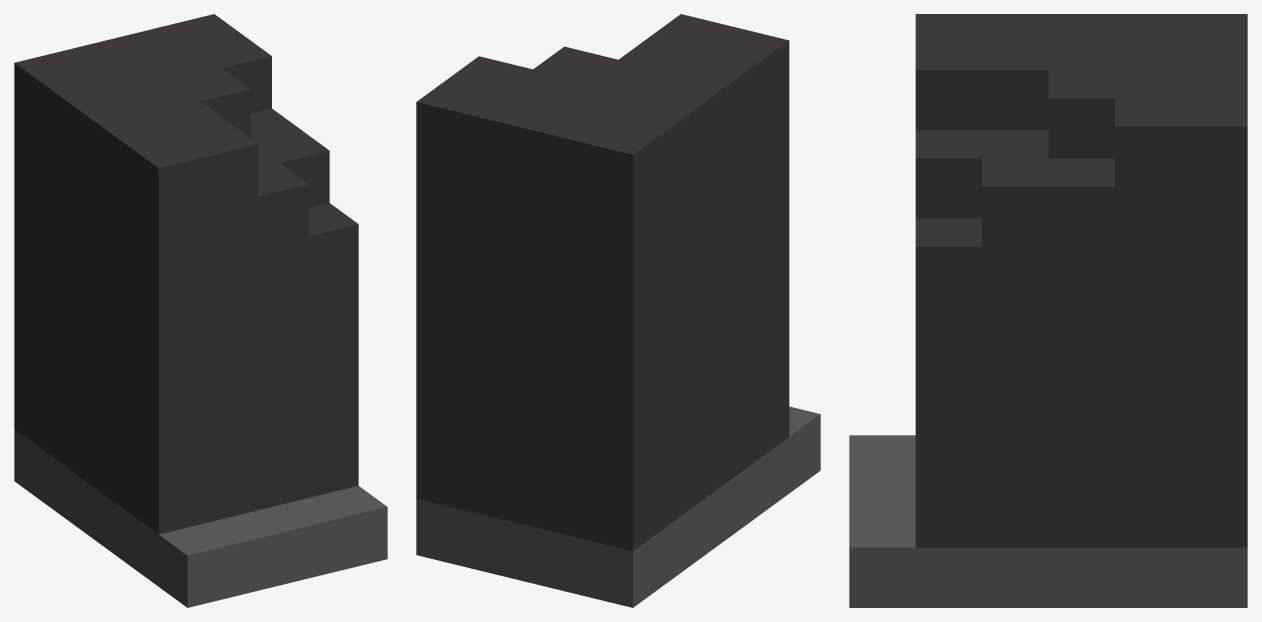
The model's file is gorilla__leg_r.glb.
3 renders of one model, left to right at view 1: azimuth 30°, elevation 25°; view 2: azimuth 150°, elevation 25°; view 3: azimuth 270°, elevation 25°, orthographic. The views are drawn at different scales.
Visible parts, largest first — view 1: gorilla__leg_r; view 2: gorilla__leg_r; view 3: gorilla__leg_r.
Boxes of the visible parts, bbox=[...] form: gorilla__leg_r: bbox=[14, 14, 387, 607]; gorilla__leg_r: bbox=[416, 14, 820, 607]; gorilla__leg_r: bbox=[849, 14, 1247, 607].
Size of the model in its own units: 0.4 by 0.8 by 0.6.
Materials: 1 (1 with a texture image).
